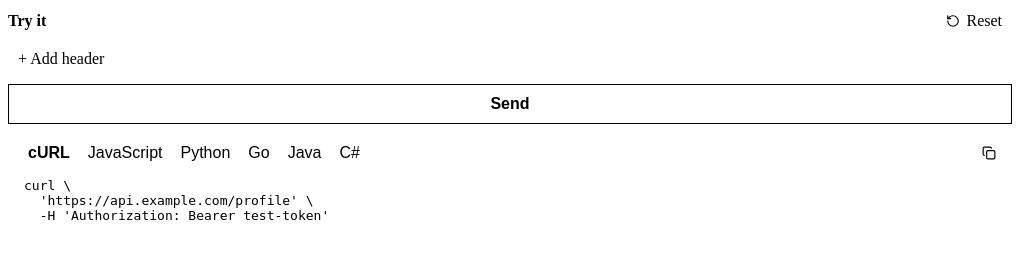
Scenario: TryItPanel Reset › clears applied authorization (resets the Authorization panel state)
Check: the button "Send" is enabled, box [8,84,1012,124]
Check: the text "Authorization required" is not shown
Click the button "Reset" at {"x": 974, "y": 21}, box [936,8,1012,34]
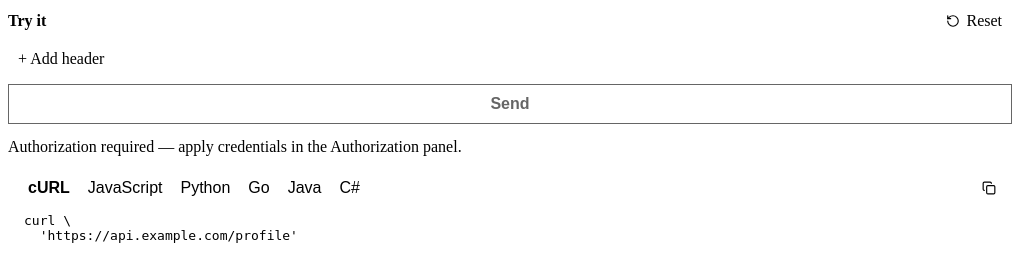
Check: the button "Send" is disabled, box [8,84,1012,124]
Check: the text "Authorization required" is shown, box [8,138,462,155]
